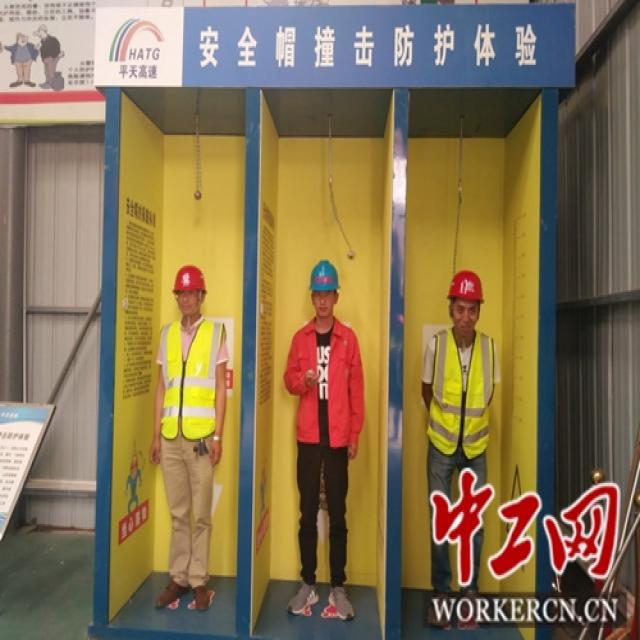Reflective-Jacket: (425, 326, 498, 461), (156, 316, 224, 444)
Safety-Helmet: (443, 268, 486, 304), (306, 258, 342, 295), (170, 263, 210, 293)
